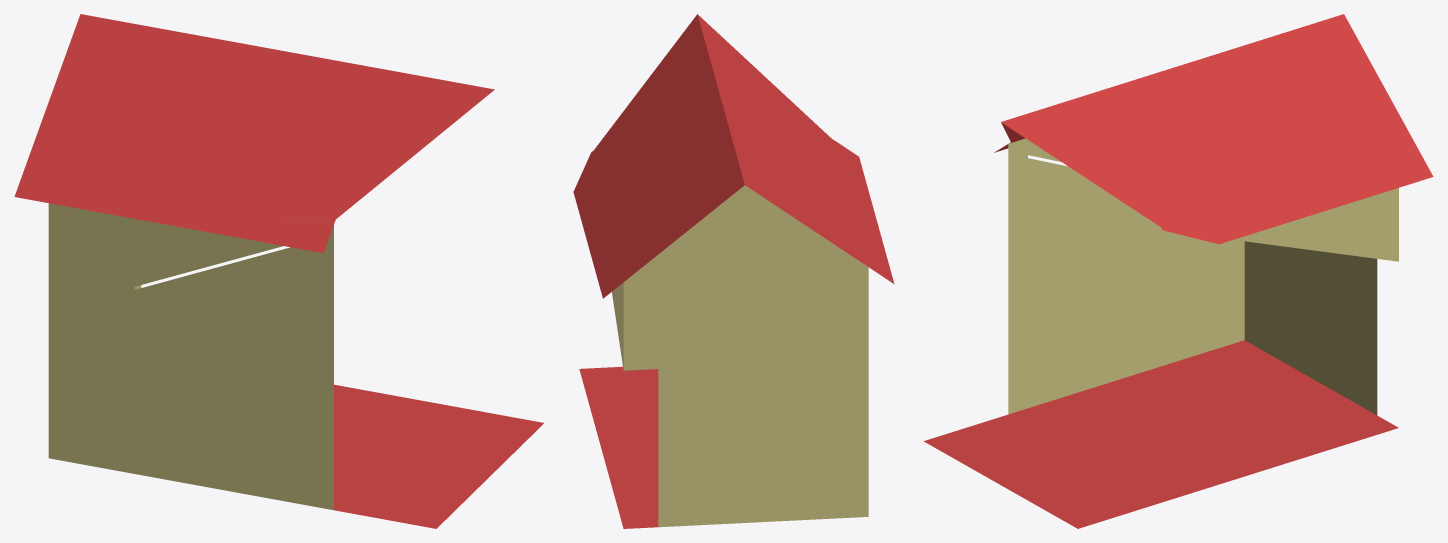
3 renders of one model, left to right at view 1: azimuth 30°, elevation 25°; view 2: azimuth 150°, elevation 25°; view 3: azimuth 270°, elevation 25°, orthographic. The views are drawn at different scales.
Bounding box in the file's own units: 14.64 × 15.52 × 12.26.
